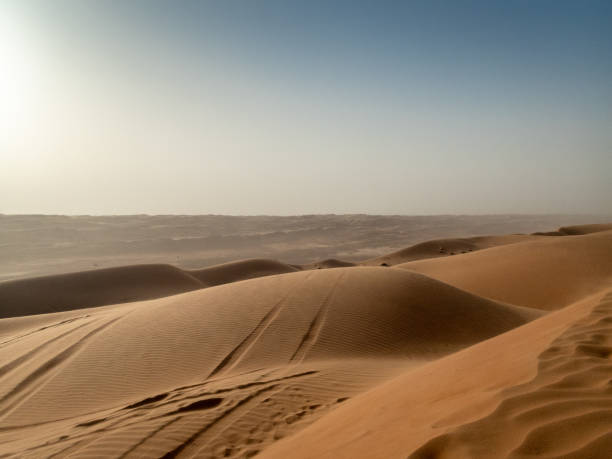vehicle_track: (0, 315, 124, 418), (208, 290, 292, 377), (290, 271, 345, 363)
